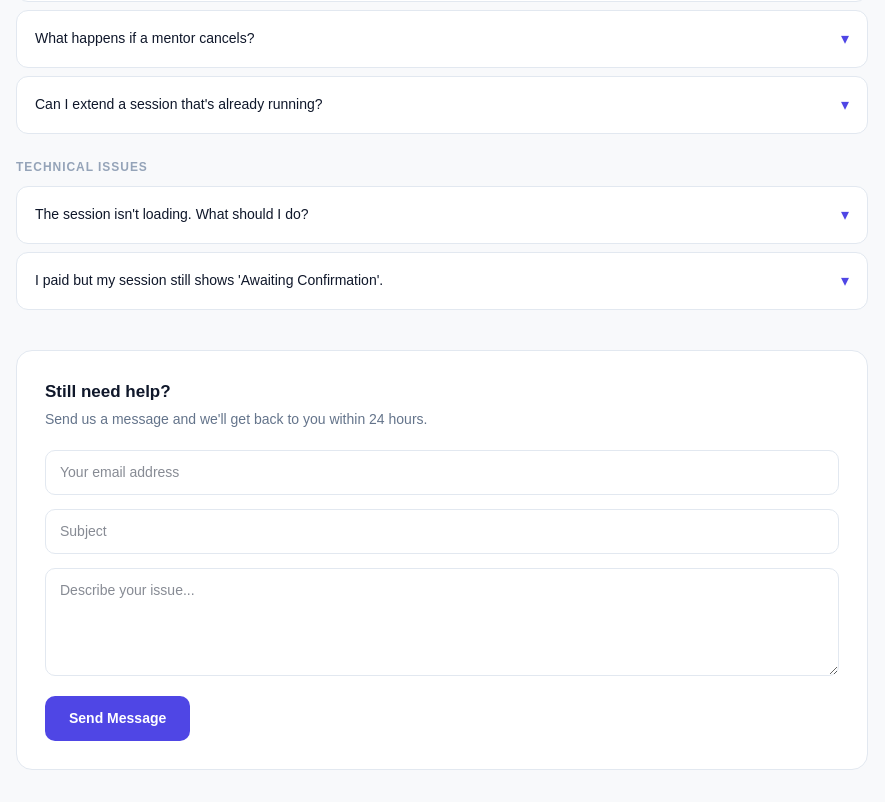
it: HelpCenter Component Suite › should show an error banner and stay on the form when submission fails
(page scrolled)
Type "a@b.com" into the field with placeholder "Your email address" at (442,472), box [45,450,839,494]
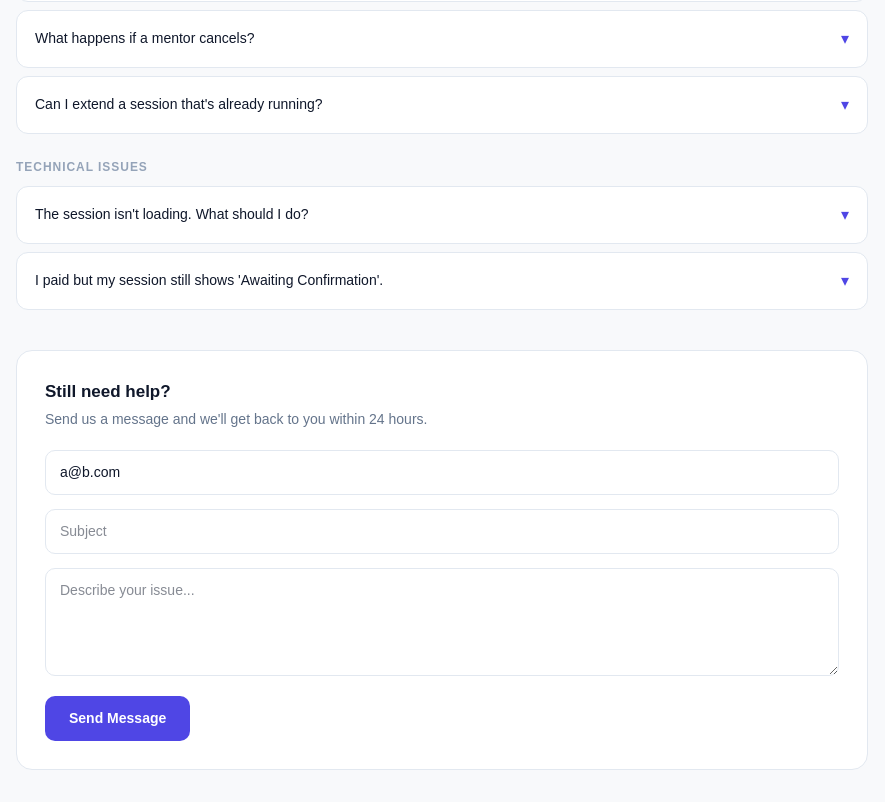
Type "s" into the field with placeholder "Subject" at (442,531), box [45,508,839,554]
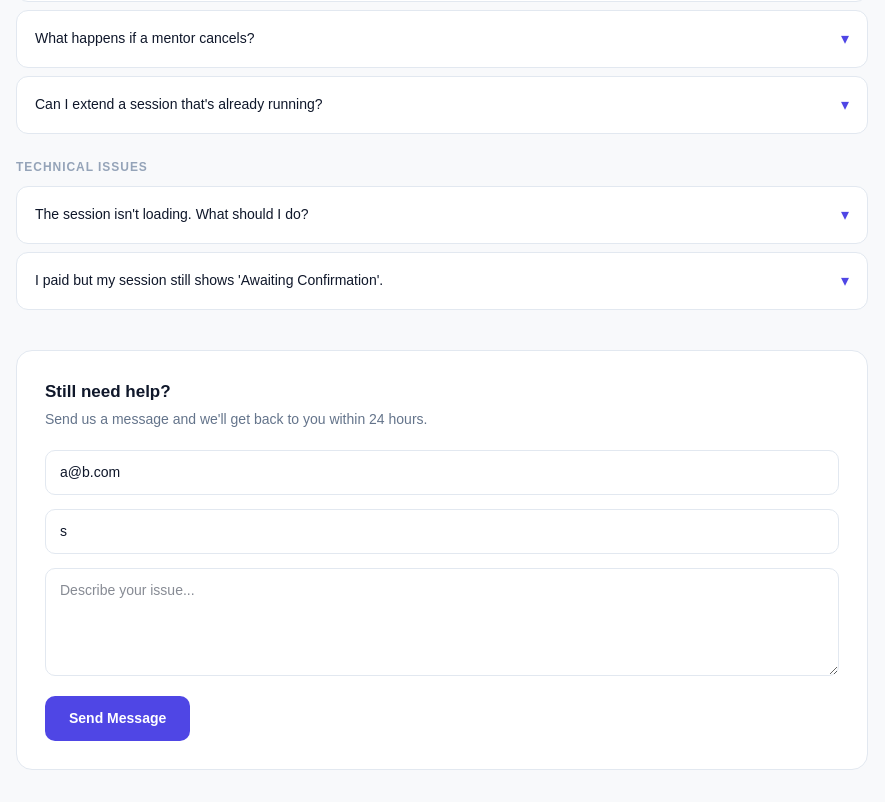
Type "m" into the text box with placeholder "Describe your issue..." at (442,622), box [45,568,839,676]
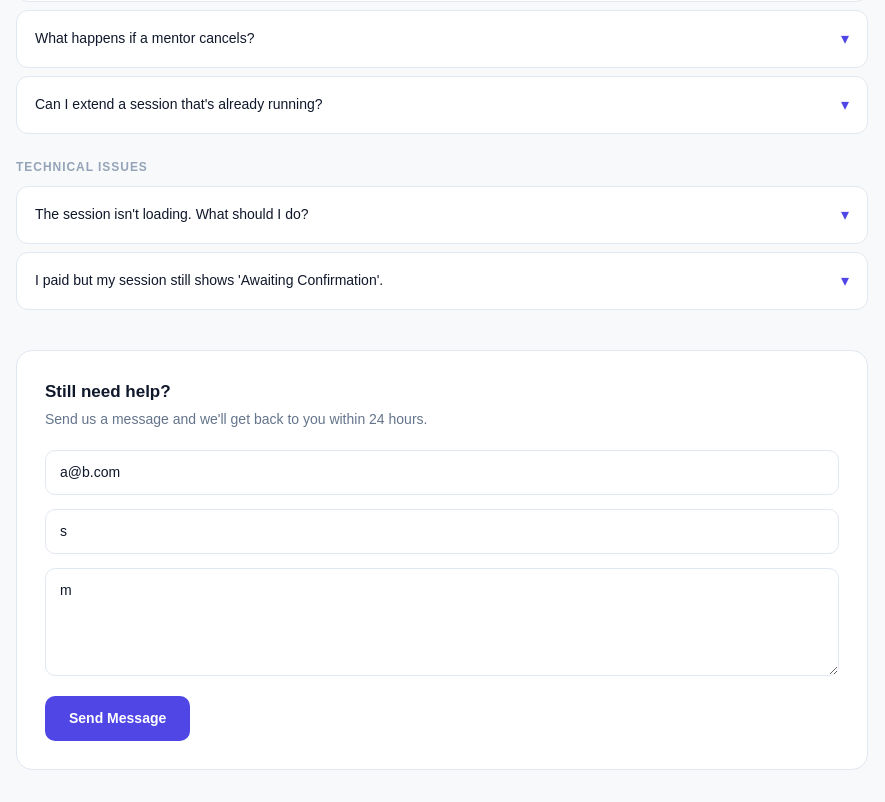
Click the button "Send Message" at (118,718), box [45,696,190,740]
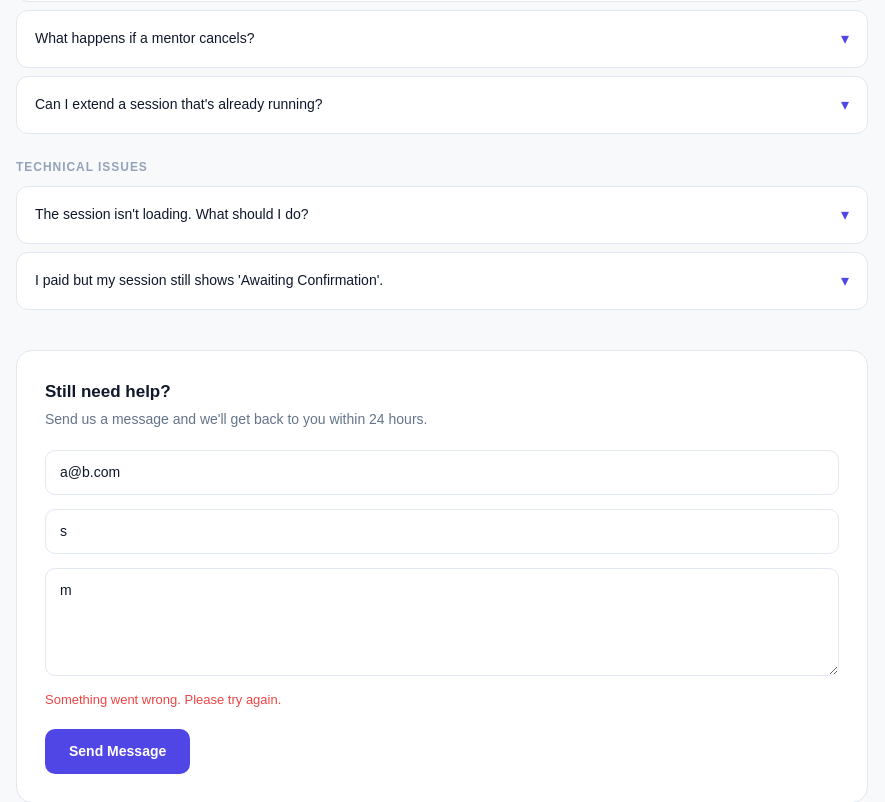
Expected: the text "Something went wrong. Please try again." is shown, [45,692,281,706]
